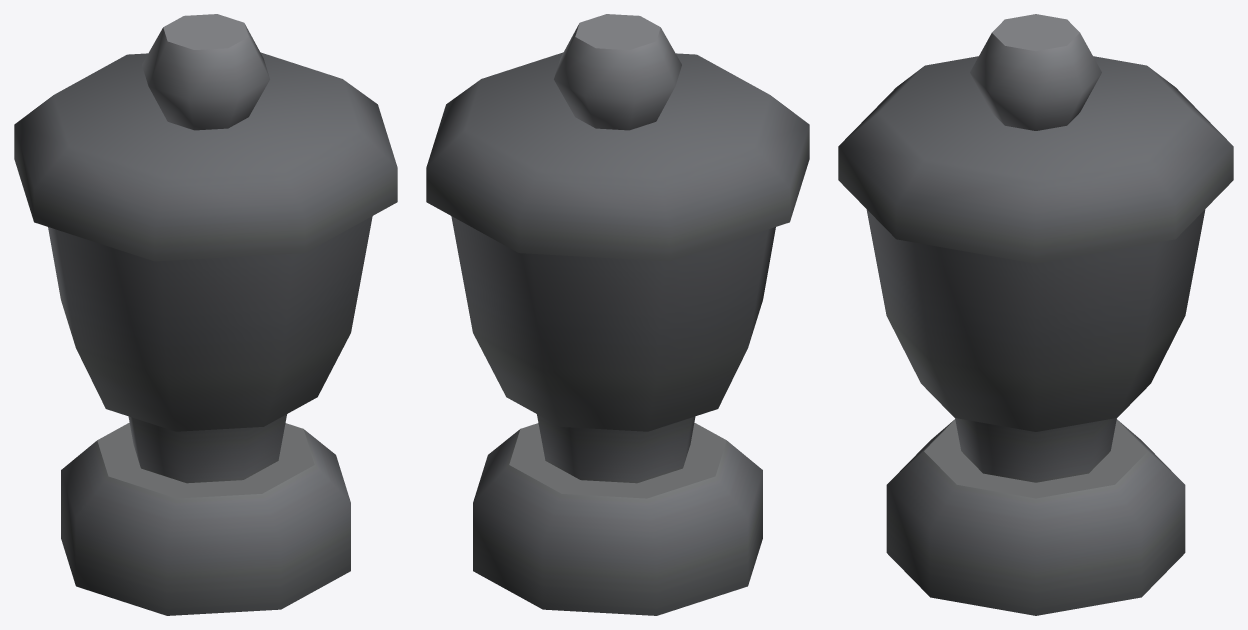
Rendered from urn-round.glb.
3 views of the same model, side by side, from view 1: azimuth 30°, elevation 25°; view 2: azimuth 150°, elevation 25°; view 3: azimuth 270°, elevation 25° (orthographic).
Parts seen in each view (by area): view 1: urn-round, lid; view 2: urn-round, lid; view 3: urn-round, lid.
Boxes of the visible parts, x1,y1,x2,y2 form: urn-round: [48, 216, 372, 615]; lid: [14, 14, 397, 261]; urn-round: [451, 216, 775, 615]; lid: [426, 14, 809, 261]; urn-round: [866, 209, 1205, 615]; lid: [838, 14, 1233, 263].
Size of the model in its own units: 0.3966 by 0.576 by 0.3966.
1 material, 1 textured.
